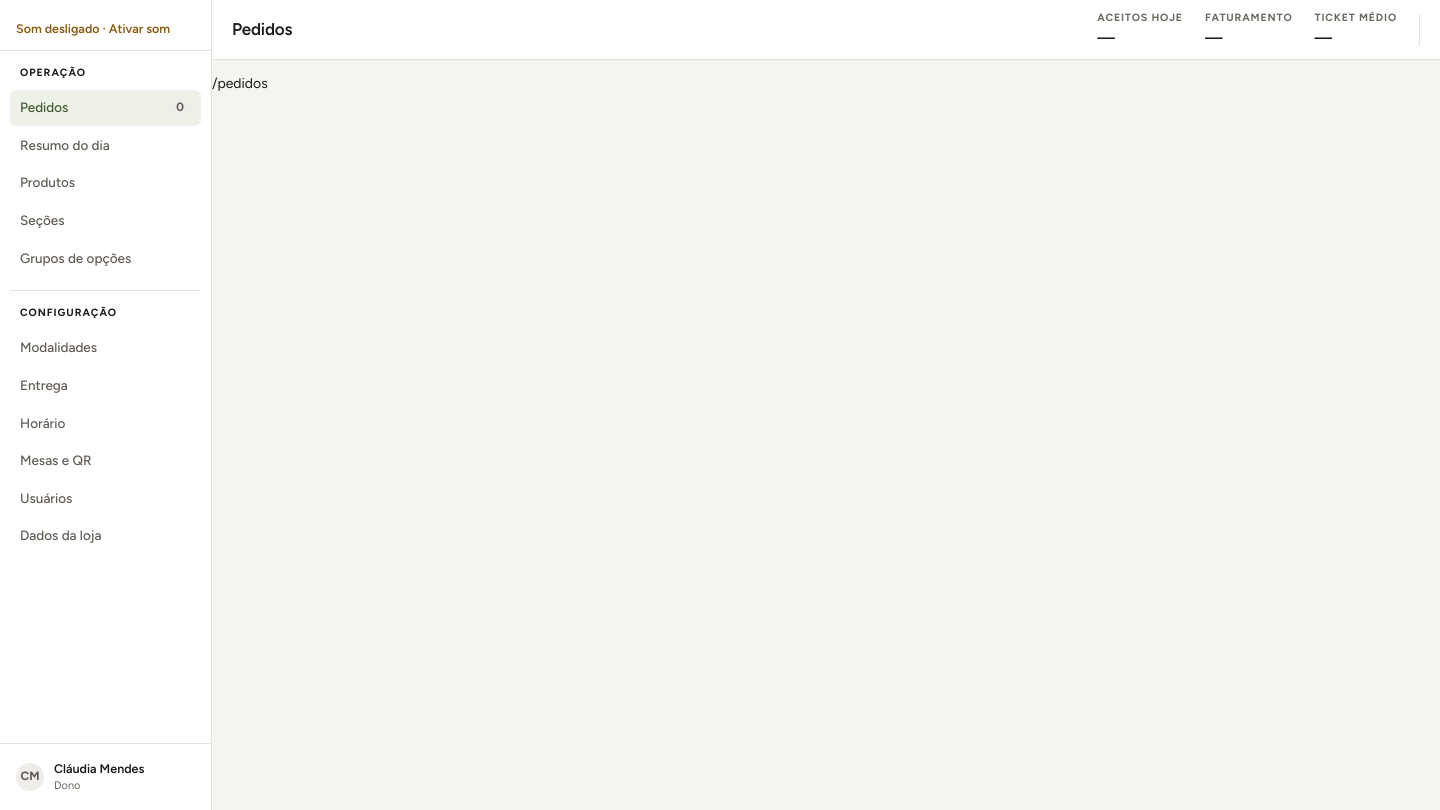
Scenario: trocar senha pelo menu da conta › senha atual errada (401) aparece no campo e NÃO desloga
Click the button with aria-label "Menu da conta": (106, 777) [10,754,201,800]
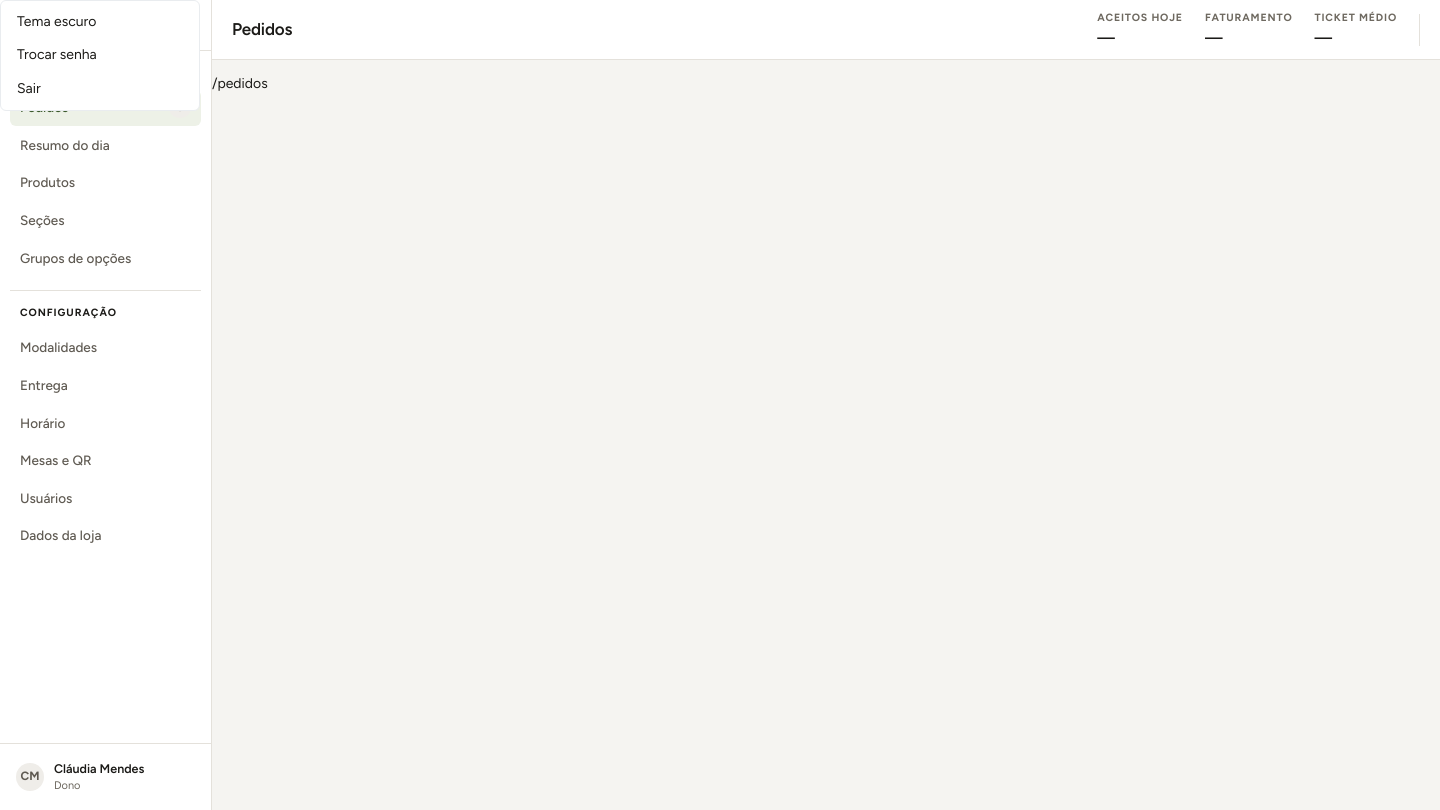
Click the menu item "Trocar senha": (100, 55) [5,39,195,72]
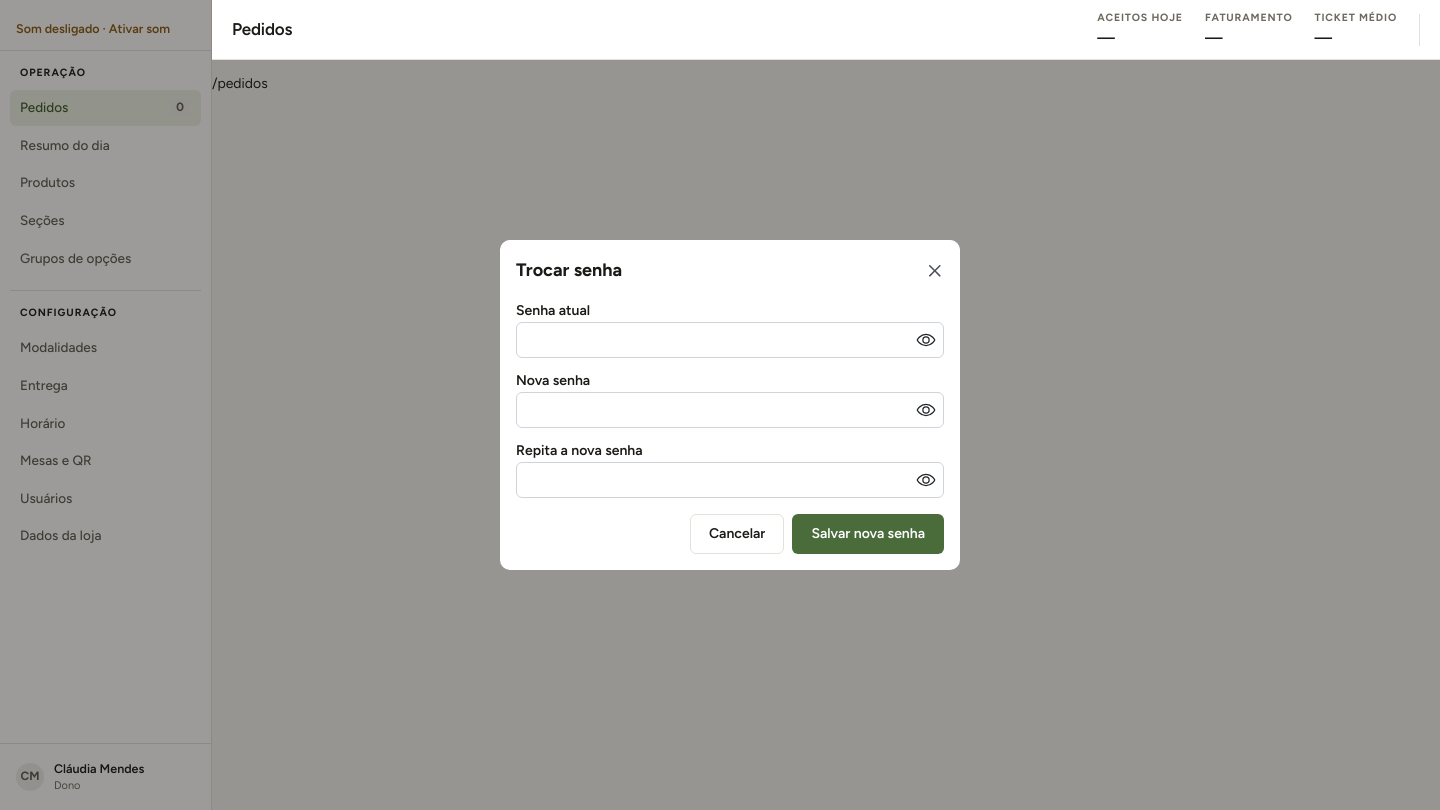
In the password field labelled "Senha atual": (730, 340) [517,323,943,357], type "chutei-errado"
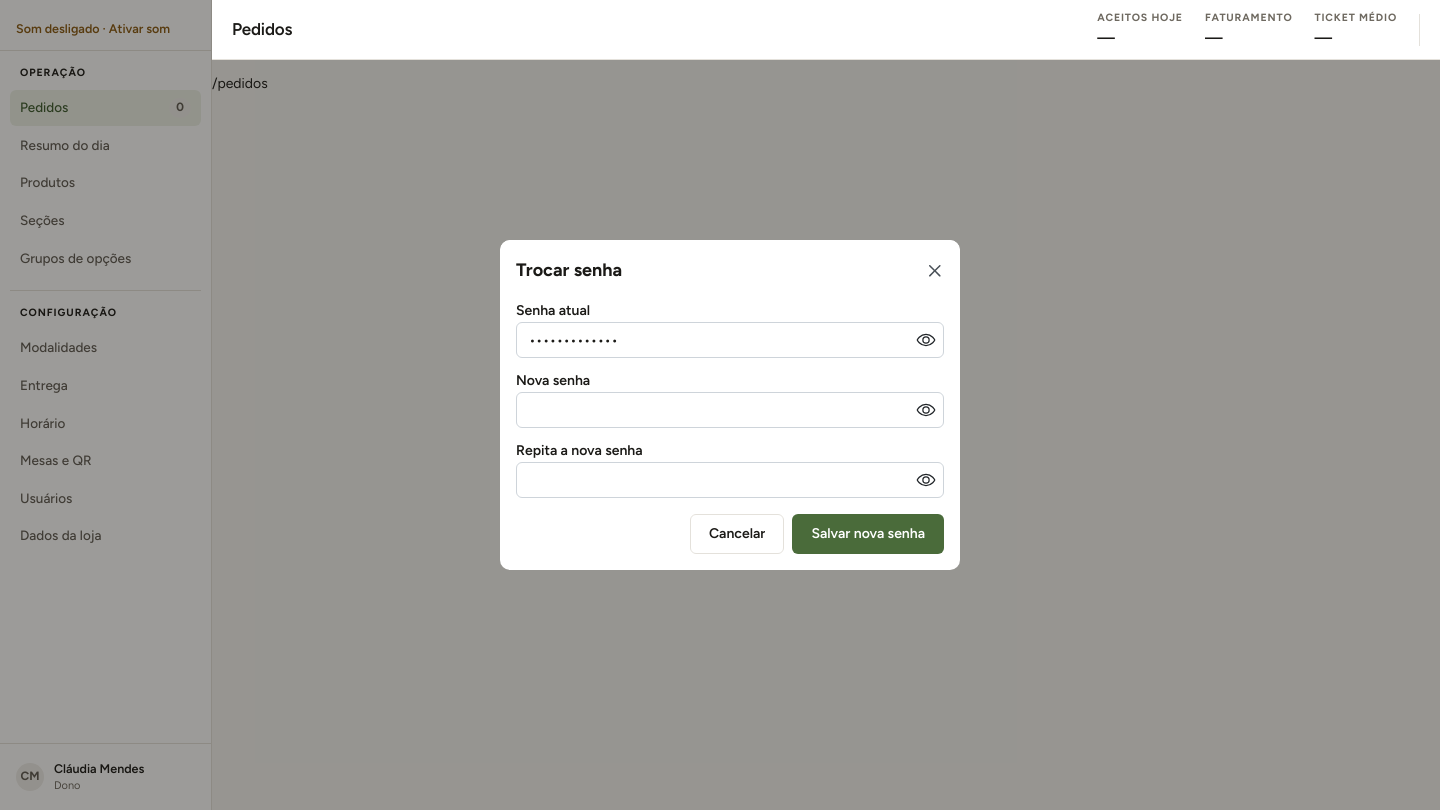
In the password field labelled "Nova senha": (730, 410) [517,393,943,427], type "senha-nova-123"
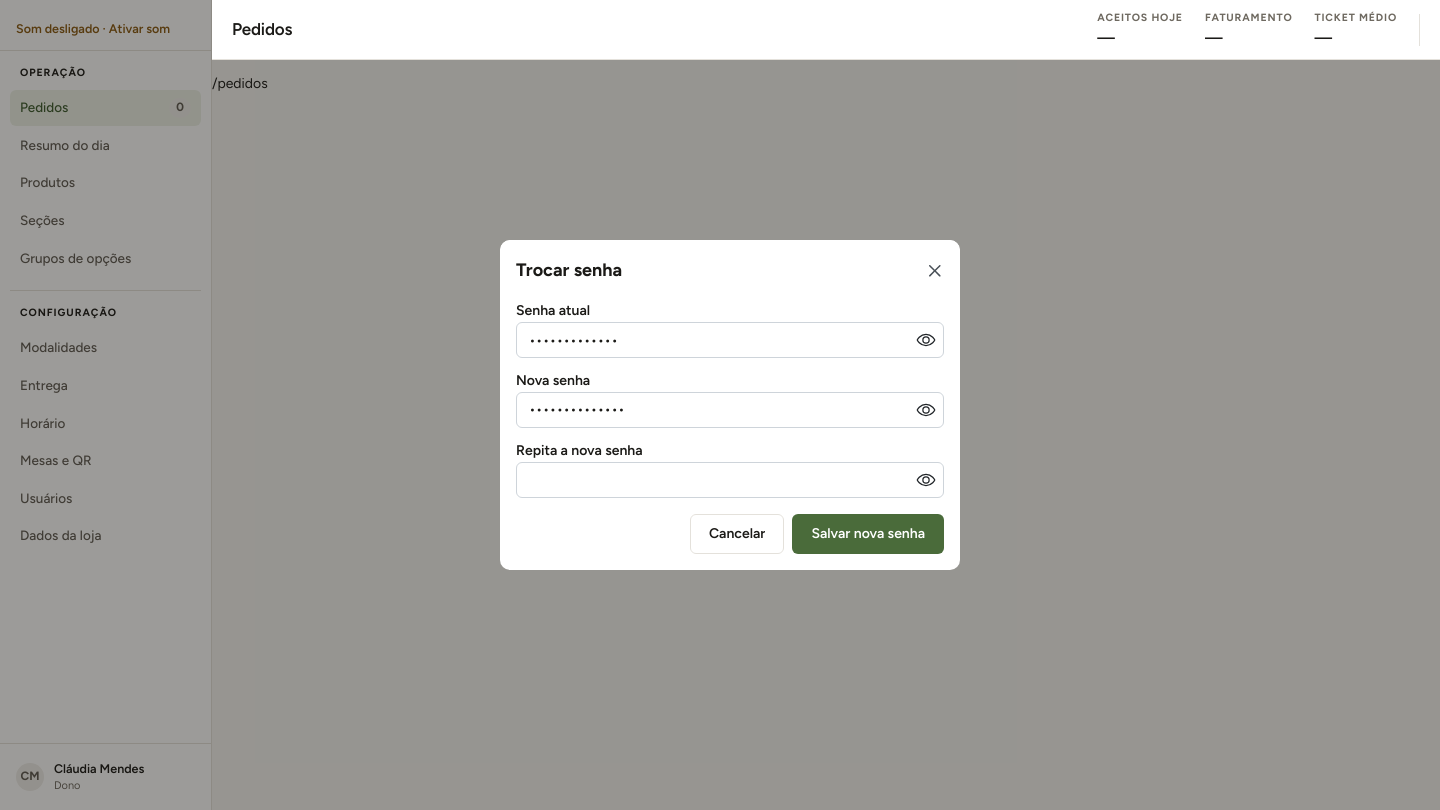
In the password field labelled "Repita a nova senha": (730, 480) [517,462,943,496], type "senha-nova-123"
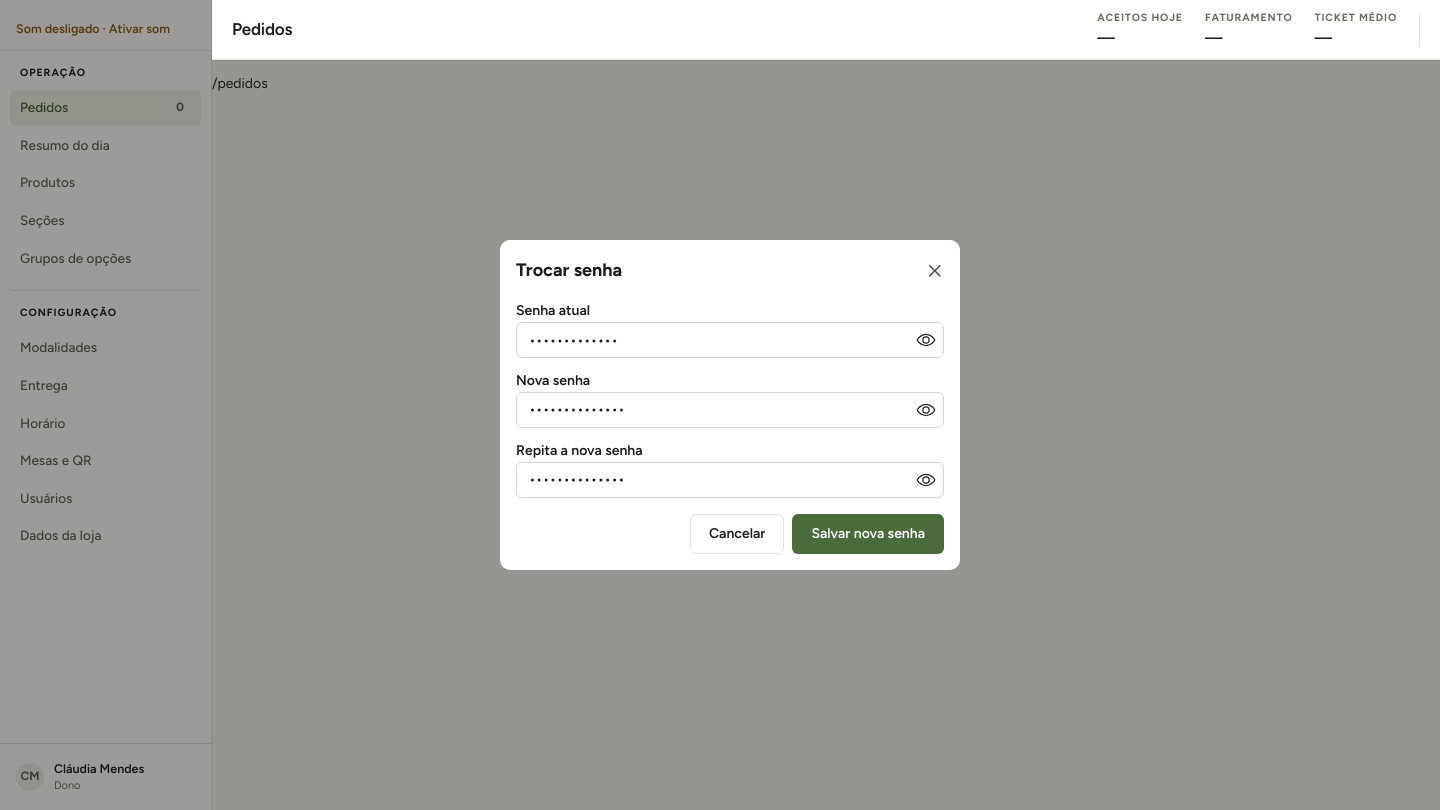
Click the button "Salvar nova senha": (868, 534) [792,514,944,554]
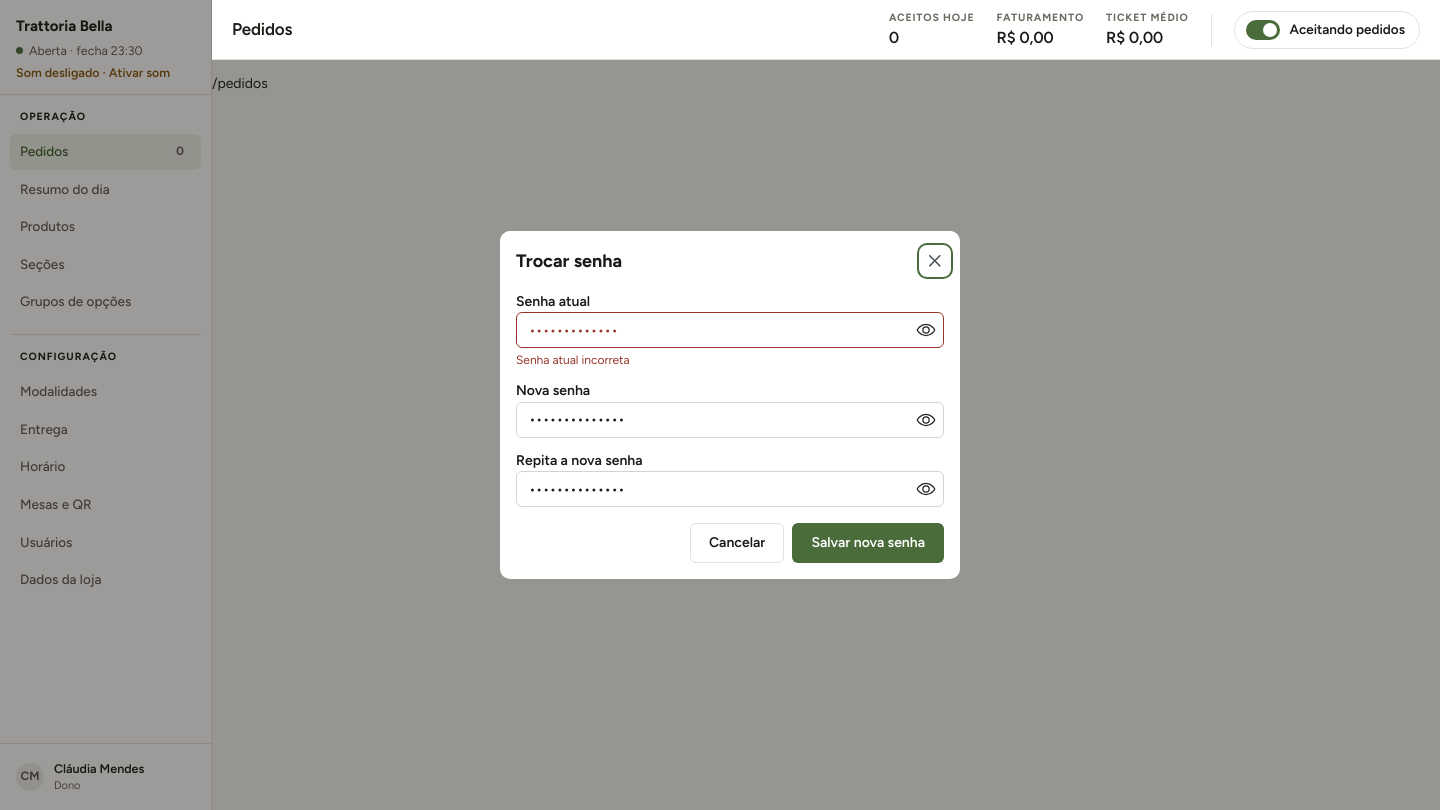
Expected: the text with test id "location" reads "/pedidos", [212,75,268,92]
Expected: the text "Senha atual incorreta" is shown, [516,354,630,368]
